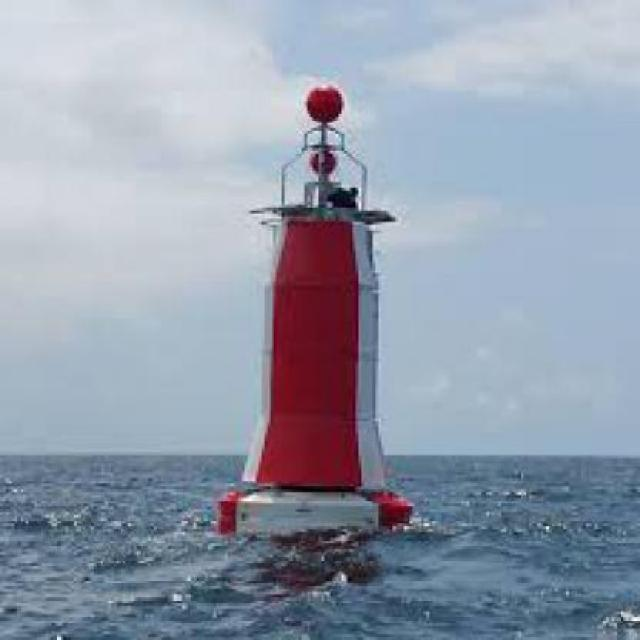buoy: (209, 75, 424, 550)
